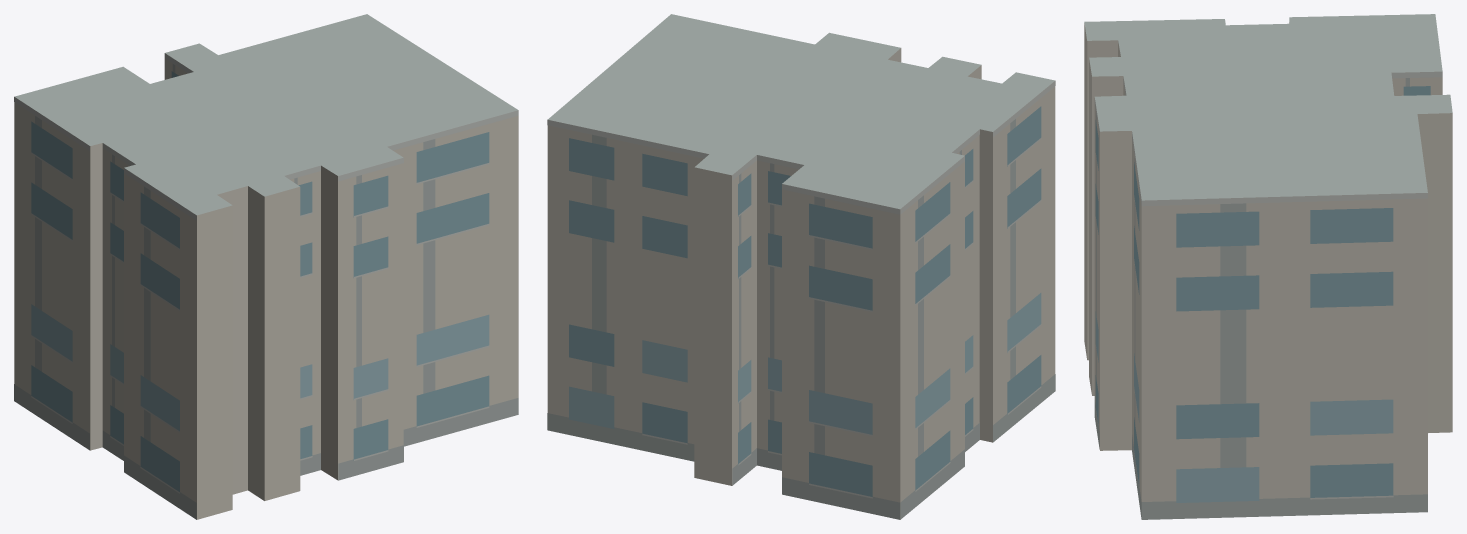
File: survey-upis-32908523.glb
The picture shows the model from 3 angles, left to right: view 1: azimuth 30°, elevation 25°; view 2: azimuth 150°, elevation 25°; view 3: azimuth 270°, elevation 25°; orthographic projection. The views are drawn at different scales.
Parts seen in each view (by area): view 1: survey-upis-32908523.tmp; view 2: survey-upis-32908523.tmp; view 3: survey-upis-32908523.tmp.
Boxes of the visible parts, x1,y1,x2,y2 form: survey-upis-32908523.tmp: [14, 14, 518, 519]; survey-upis-32908523.tmp: [547, 14, 1055, 519]; survey-upis-32908523.tmp: [1084, 14, 1452, 519].
Bounding box in the file's own units: 17.17 × 13.7 × 14.32.
